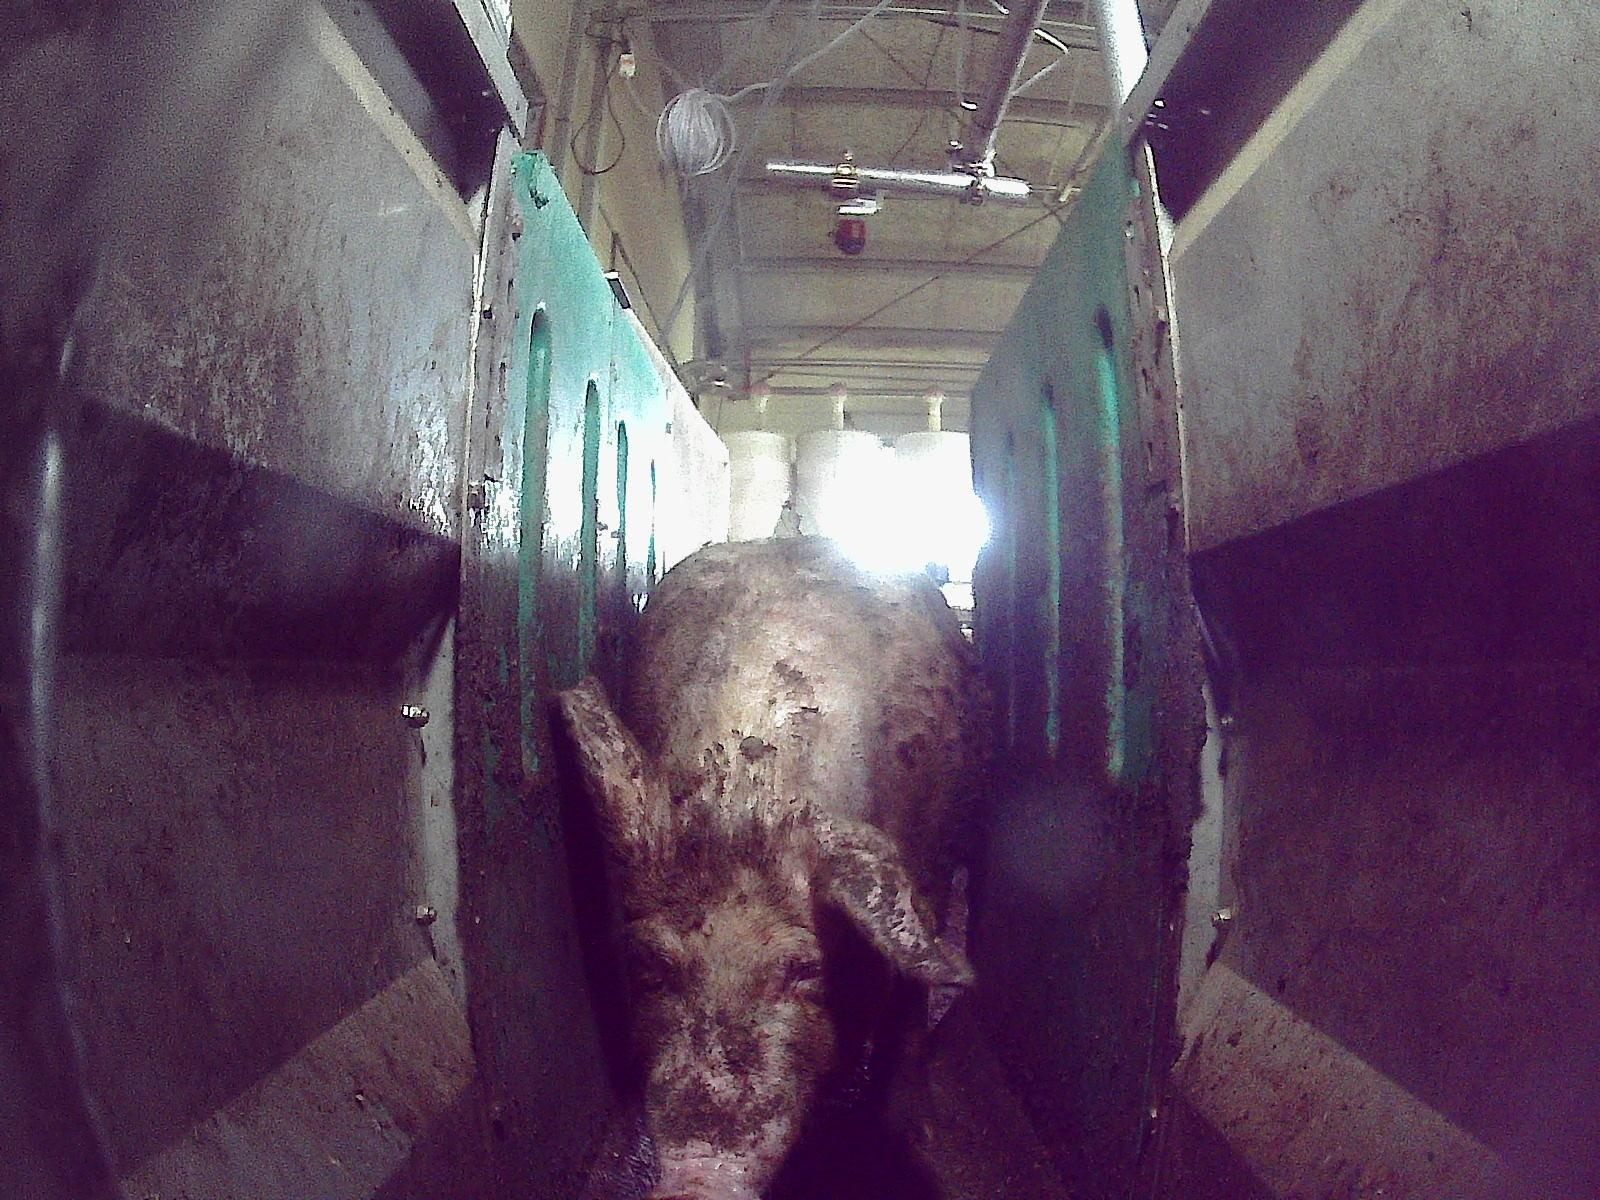Face: (610, 822, 874, 1199)
